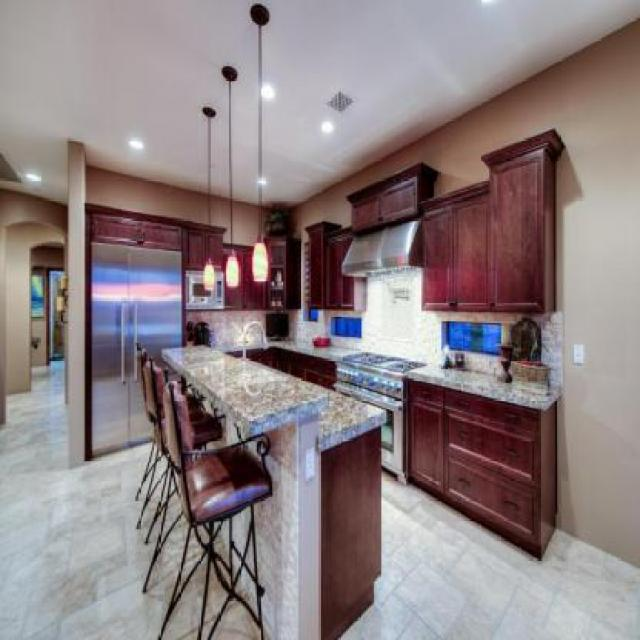Floor: (0, 358, 188, 638), (338, 467, 639, 639), (161, 553, 207, 639), (173, 528, 205, 603), (201, 561, 228, 639), (210, 598, 261, 639), (158, 492, 182, 550), (235, 578, 258, 620), (148, 456, 168, 498), (158, 466, 171, 512), (213, 534, 230, 568), (216, 558, 231, 588), (146, 442, 158, 474), (197, 524, 210, 544), (232, 563, 238, 581), (170, 478, 174, 494), (158, 451, 162, 458), (214, 526, 216, 536), (206, 522, 209, 528)
